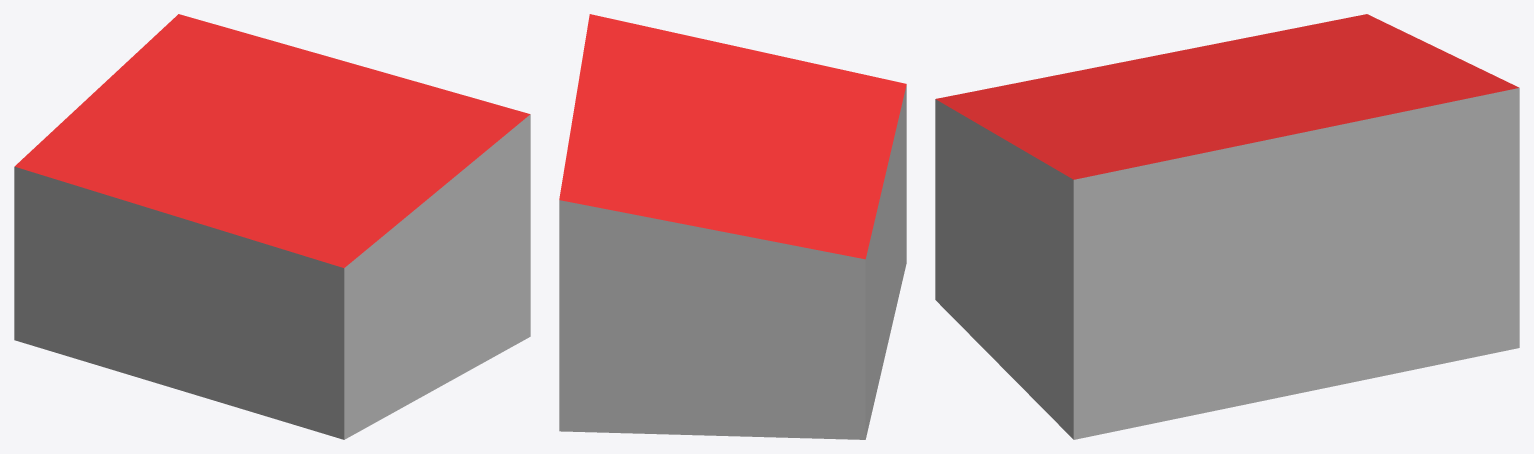
File: DEBY_LOD2_4730374.dae
The picture shows the model from 3 angles, left to right: view 1: azimuth 30°, elevation 25°; view 2: azimuth 150°, elevation 25°; view 3: azimuth 270°, elevation 25°; orthographic projection. The views are drawn at different scales.
Bounding box in the file's own units: 5.72 × 6.34 × 3.11.
